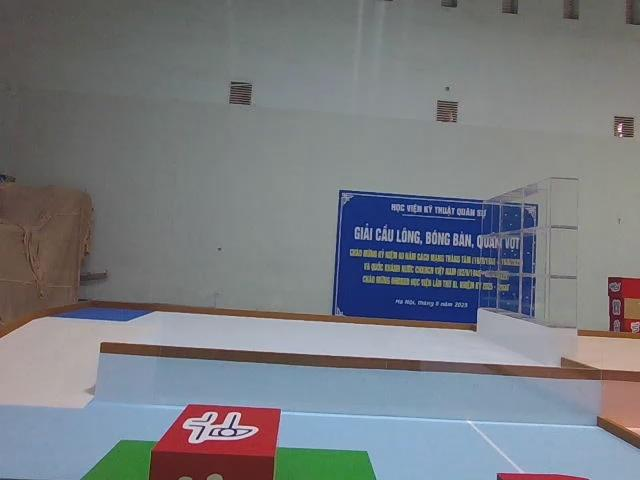R2 Real: (148, 401, 280, 480)
